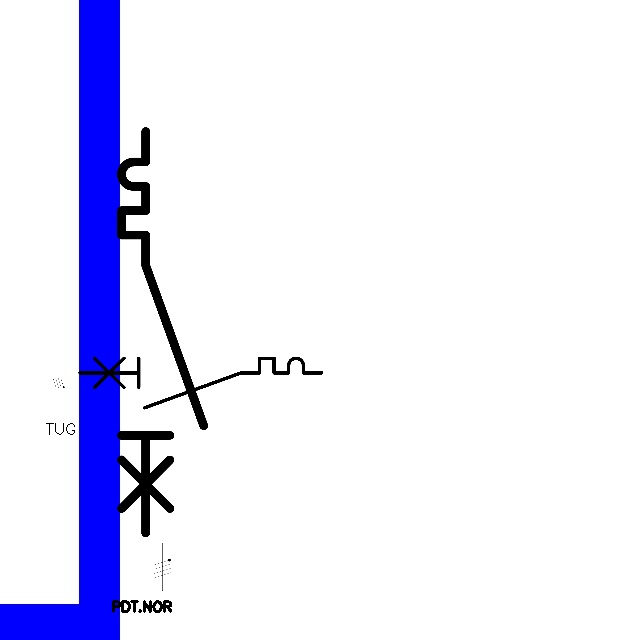interruptor_termomagnetico: (111, 121, 214, 543), (73, 352, 327, 414)
